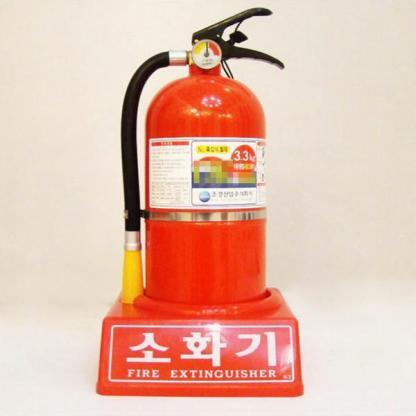fire-extinguisher: (97, 9, 303, 398)
